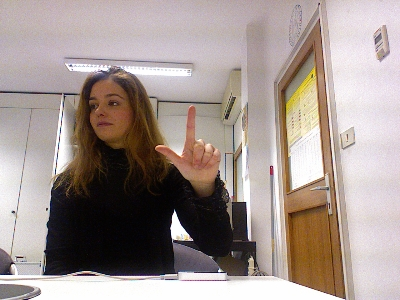枪: (153, 104, 221, 183)
